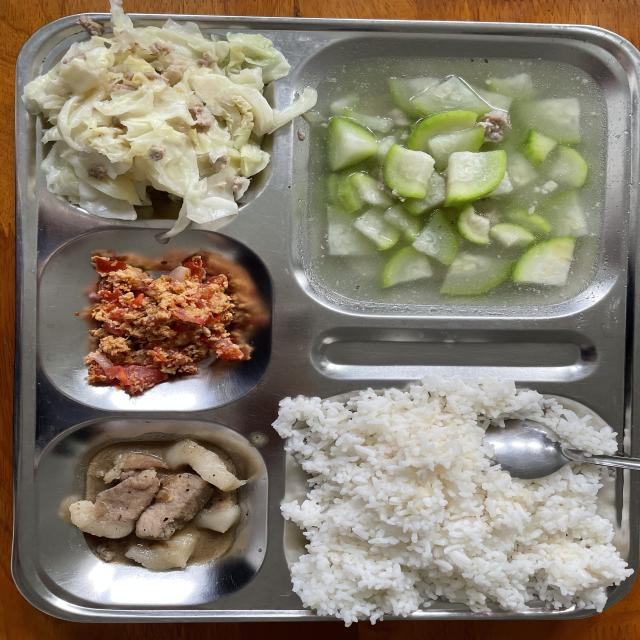bap cai xao: (22, 0, 316, 240)
canh bau: (303, 57, 610, 308)
com: (273, 377, 630, 621)
kho tieu: (68, 439, 249, 570)
